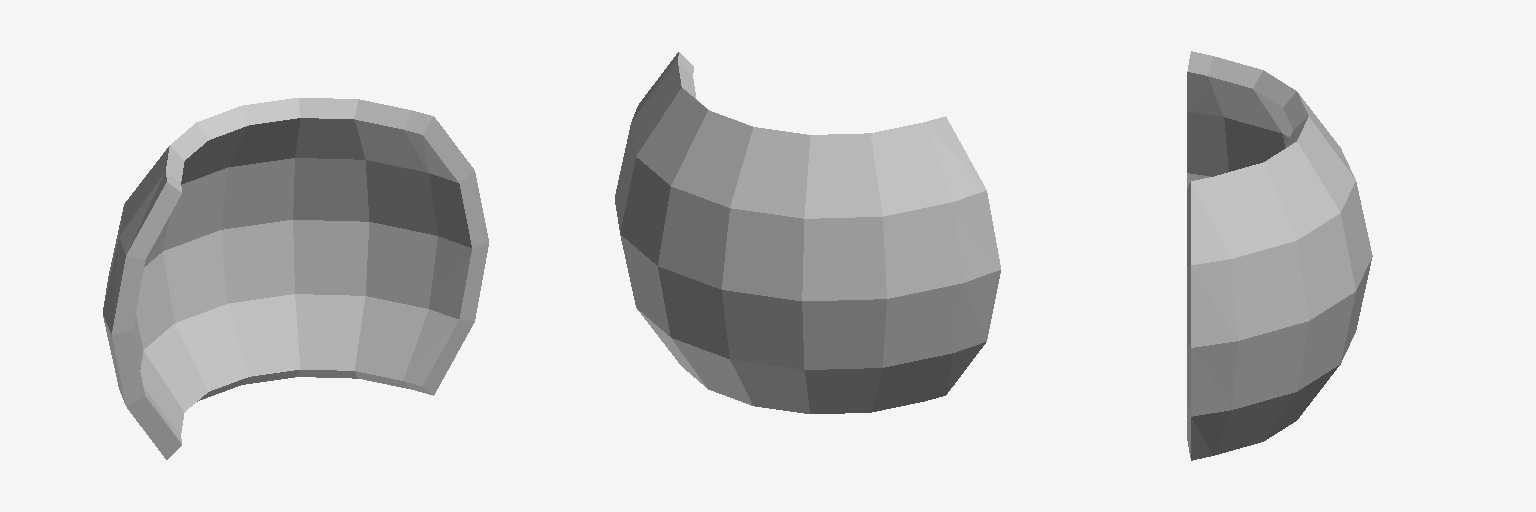
File: boss_shield_back_collision.obj
3 renders of one model, left to right at view 1: azimuth 30°, elevation 25°; view 2: azimuth 150°, elevation 25°; view 3: azimuth 270°, elevation 25°, orthographic.
Parts seen in each view (by area): view 1: Sphere.002_Sphere.004; view 2: Sphere.002_Sphere.004; view 3: Sphere.002_Sphere.004.
Part boxes in pixels (x1,y1,x2,y2): Sphere.002_Sphere.004: (103, 98, 488, 459); Sphere.002_Sphere.004: (615, 52, 1000, 413); Sphere.002_Sphere.004: (1187, 51, 1372, 460).
Size of the model in its own units: 3.42 by 2.42 by 1.45.